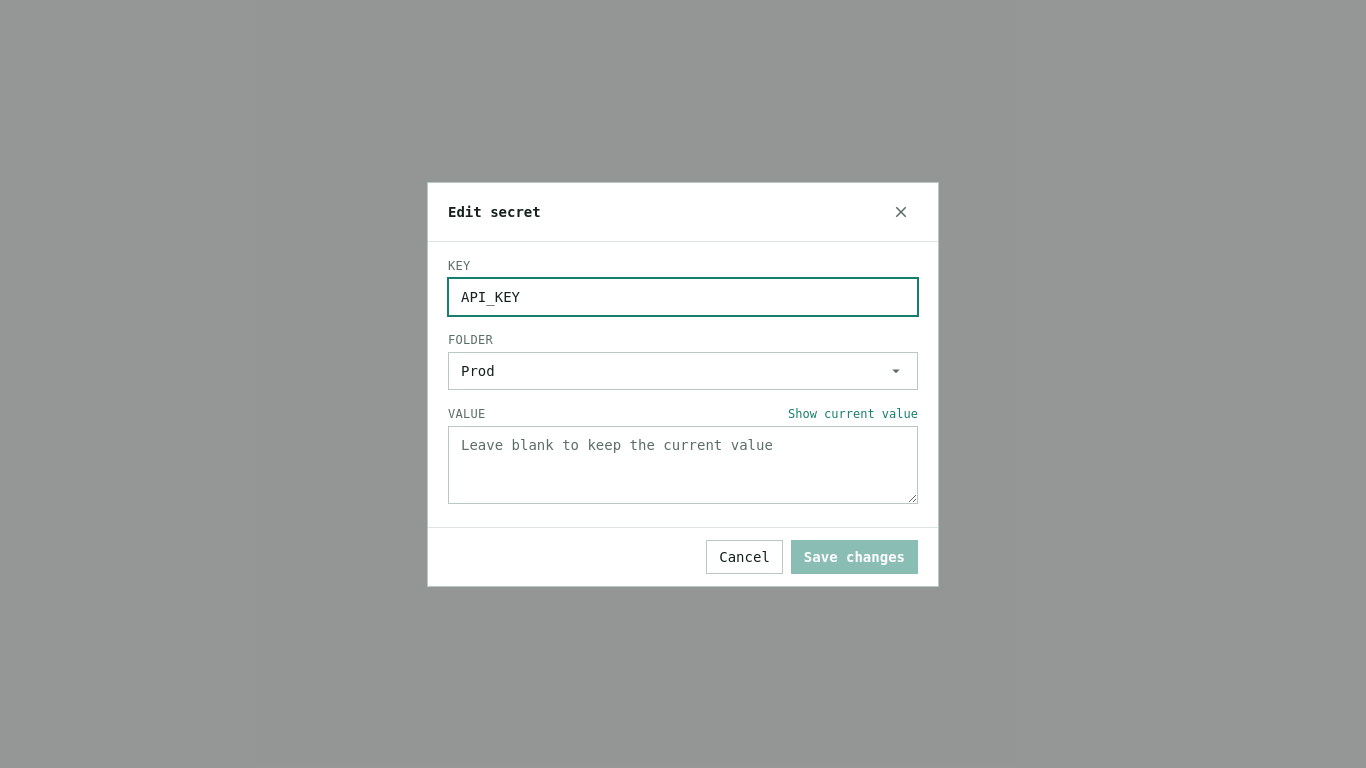
Test: EditSecretDialog › shows a server error inline (e.g. 409 collision)
Type "X" into the field labelled "Key".
click(683, 296); type("X")  # box x1=448 y1=278 x2=918 y2=316
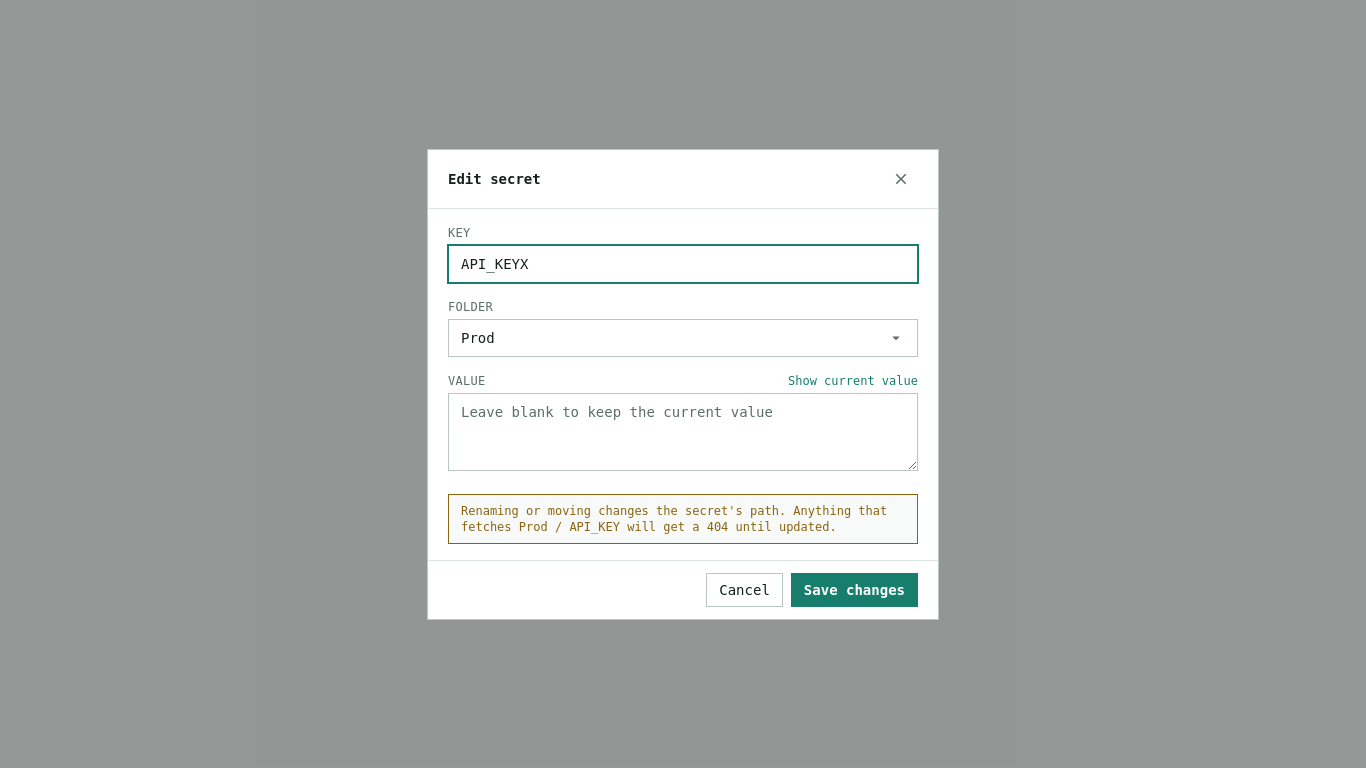
Click the button "Save changes".
click(854, 590)  # box x1=791 y1=572 x2=918 y2=606
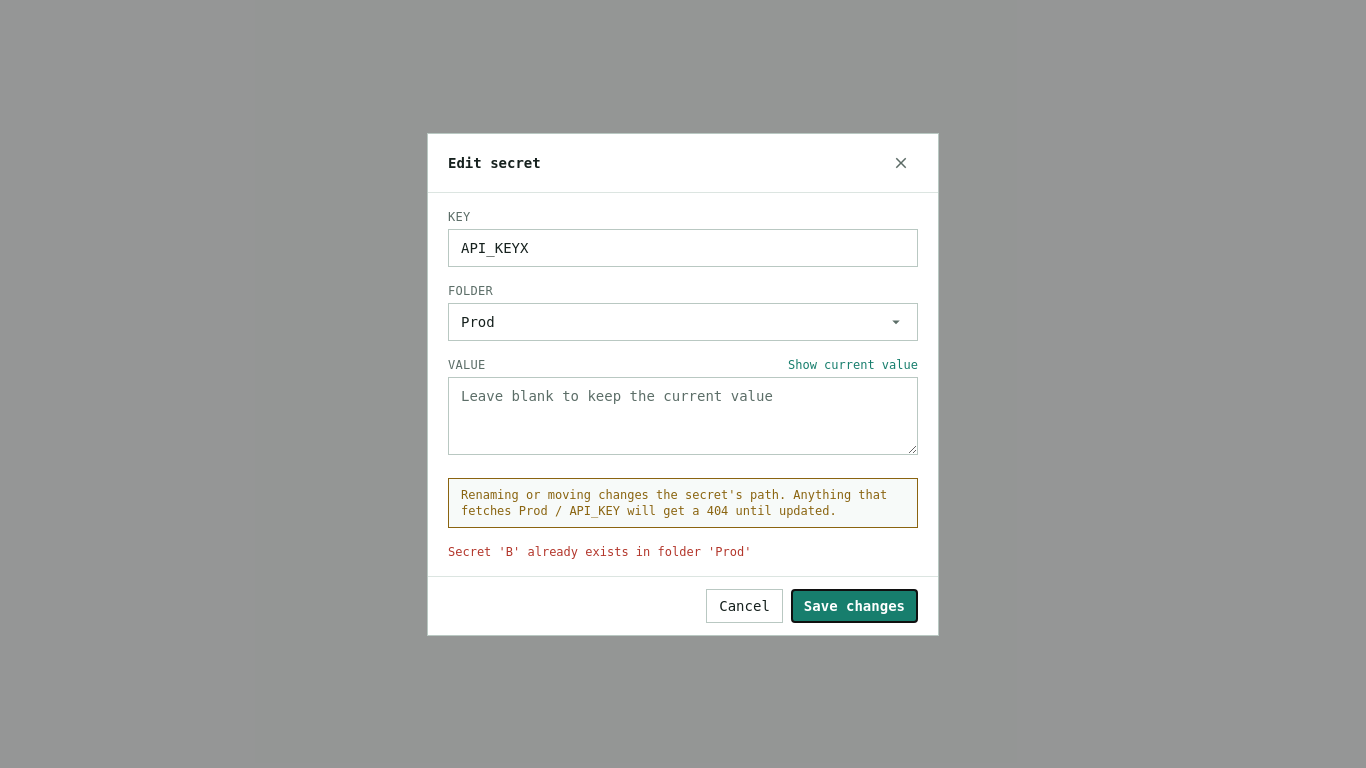
Expected: the message shows "already exists", x1=448 y1=544 x2=751 y2=558
